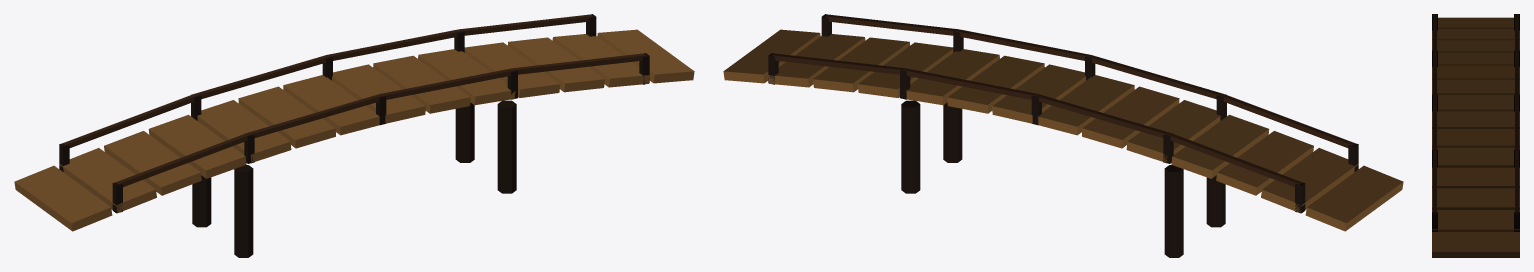
The model's file is bridge.obj.
3 views of the same model, side by side, from view 1: azimuth 30°, elevation 25°; view 2: azimuth 150°, elevation 25°; view 3: azimuth 270°, elevation 25° (orthographic). The views are drawn at different scales.
Parts seen in each view (by area): view 1: core_plank, core_wood, core_wood_dark; view 2: core_plank, core_wood, core_wood_dark; view 3: core_plank, core_wood, core_wood_dark.
Boxes of the visible parts, x1,y1,x2,y2 form: core_plank: (14, 29, 694, 231); core_wood: (63, 14, 645, 186); core_wood_dark: (59, 14, 649, 257); core_plank: (723, 29, 1403, 231); core_wood: (772, 14, 1354, 186); core_wood_dark: (768, 14, 1358, 257); core_plank: (1432, 17, 1519, 257); core_wood: (1433, 14, 1518, 213); core_wood_dark: (1432, 14, 1519, 231).
Size of the model in its own units: 1.89 by 0.382 by 0.3.
